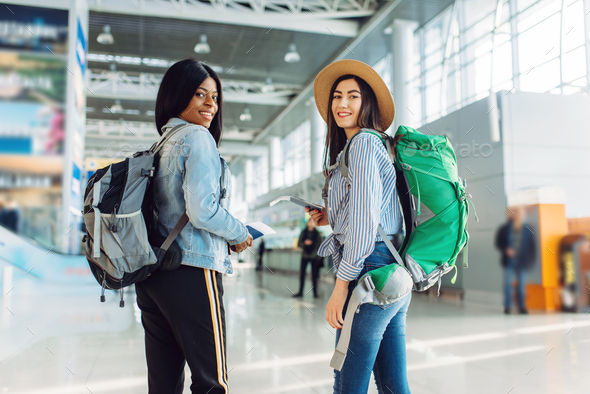backpack: (368, 124, 485, 310), (72, 125, 195, 297)
people: (131, 55, 265, 394), (299, 53, 422, 393)
